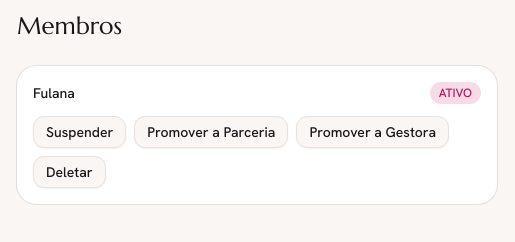
MembrosPage › mostra a mensagem de erro original quando promover a gestora falha
Click the button "Promover a Gestora": (373, 132) [296,116,449,148]
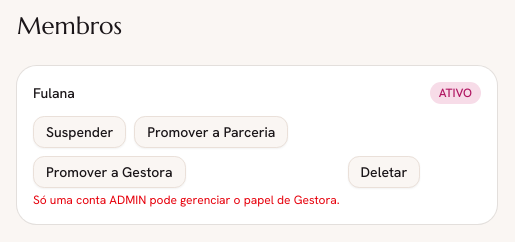
Expected: the message reads "Só uma conta ADMIN pode gerenciar o papel de Gestora.", [33,192,340,208]
